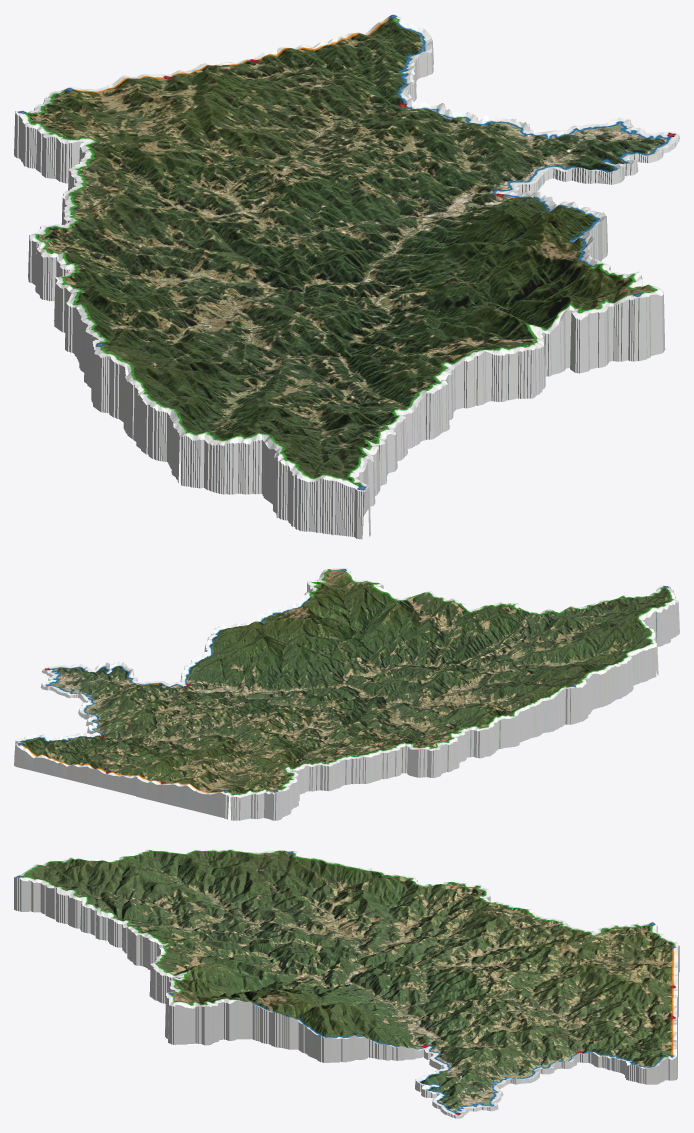
3 renders of one model, top to bottom at view 1: azimuth 30°, elevation 25°; view 2: azimuth 150°, elevation 25°; view 3: azimuth 270°, elevation 25°, orthographic. The views are drawn at different scales.
Size of the model in its own units: 0.9996 by 0.0822 by 1.19.
Materials: 1 (1 with a texture image).
